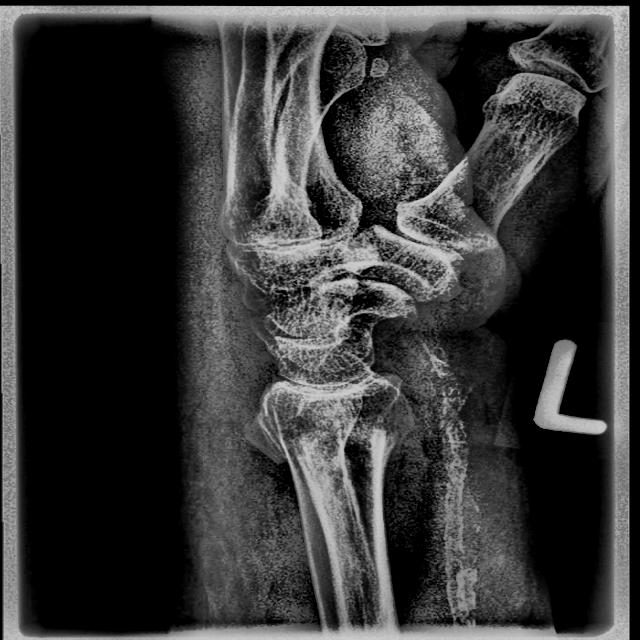messed_up_angle: (284, 410, 390, 474)
